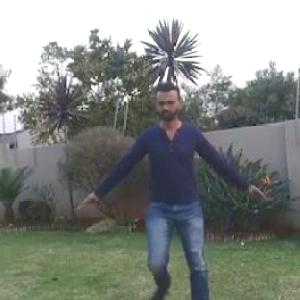land: (70, 77, 260, 299)
